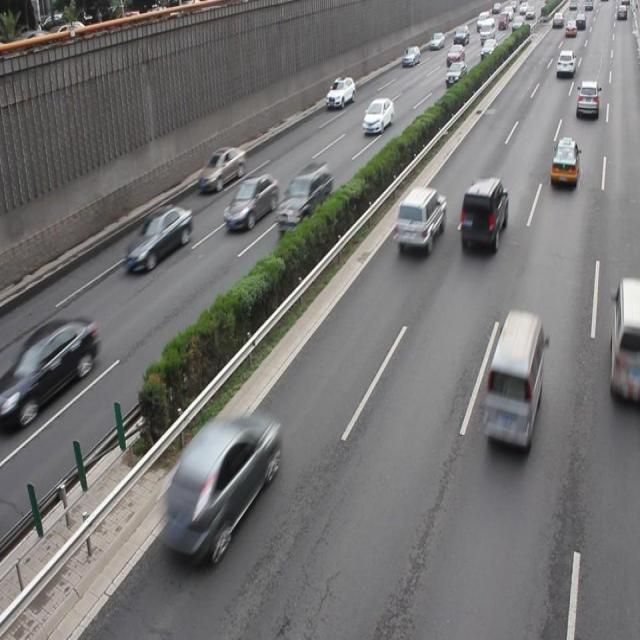car: (161, 410, 279, 561), (10, 315, 99, 426), (123, 201, 193, 275), (275, 162, 333, 235), (458, 176, 506, 254), (394, 184, 444, 256), (223, 174, 278, 233), (197, 145, 244, 193), (549, 136, 579, 189), (362, 96, 393, 134), (324, 75, 354, 109)
truck: (482, 310, 544, 450), (608, 277, 640, 406)
